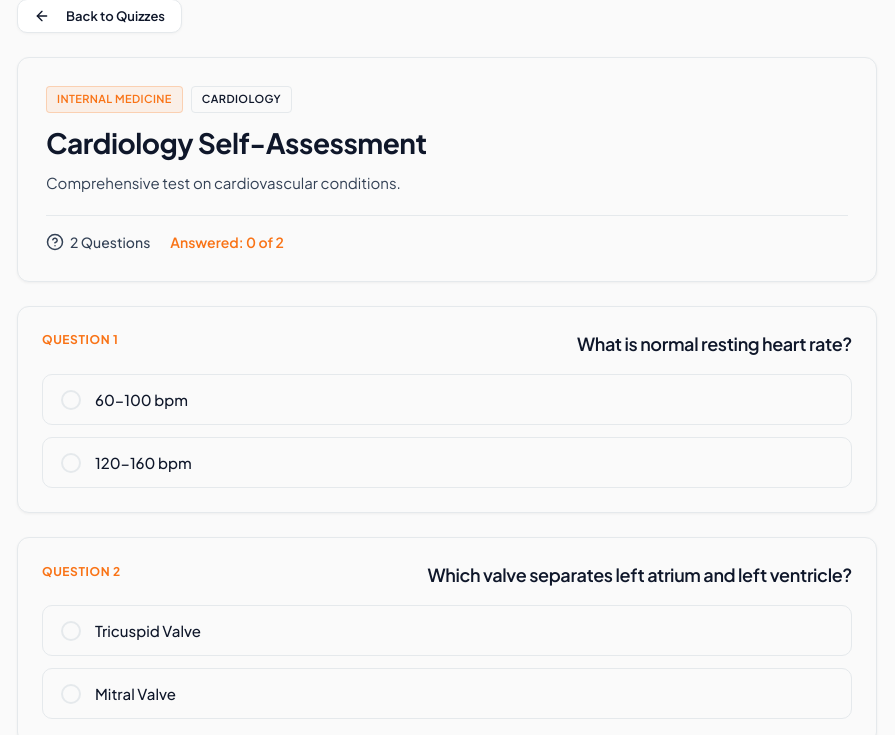
Test case: QuizDetail Component › highlights correct selected option in green and wrong selected option in red after submission
expect the heading "Cardiology Self-Assessment" is shown: met, box [46,124,426,160]
Click the radio button with aria-label "Option 1: 60-100 bpm". click: (142, 400)
box: [42,374,852,425]
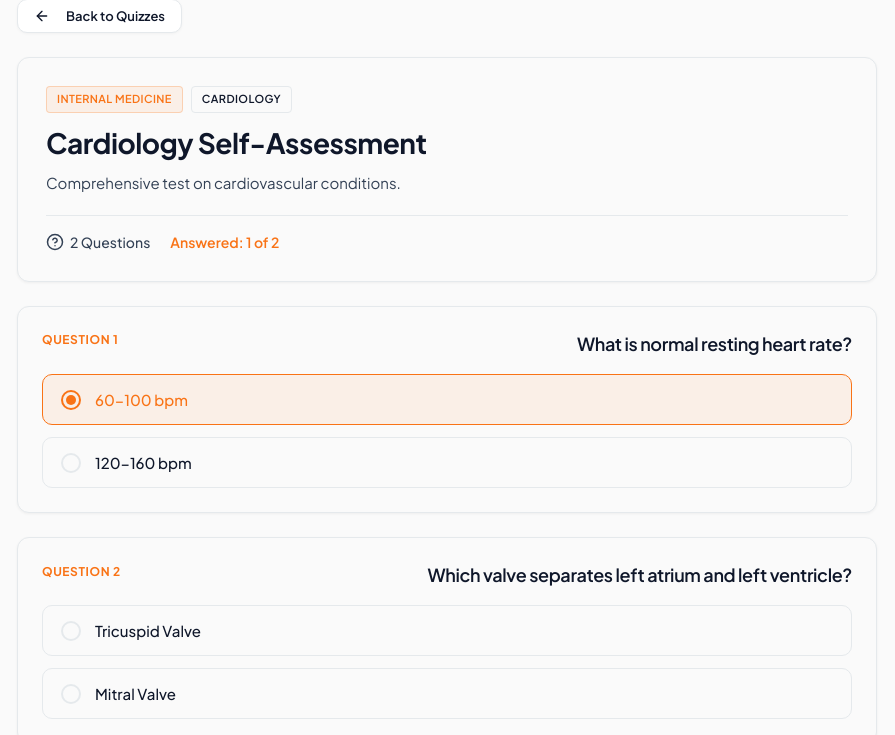
Click the radio button with aria-label "Option 1: Tricuspid Valve". click: (148, 631)
box: [42,605,852,656]
(page scrolled)
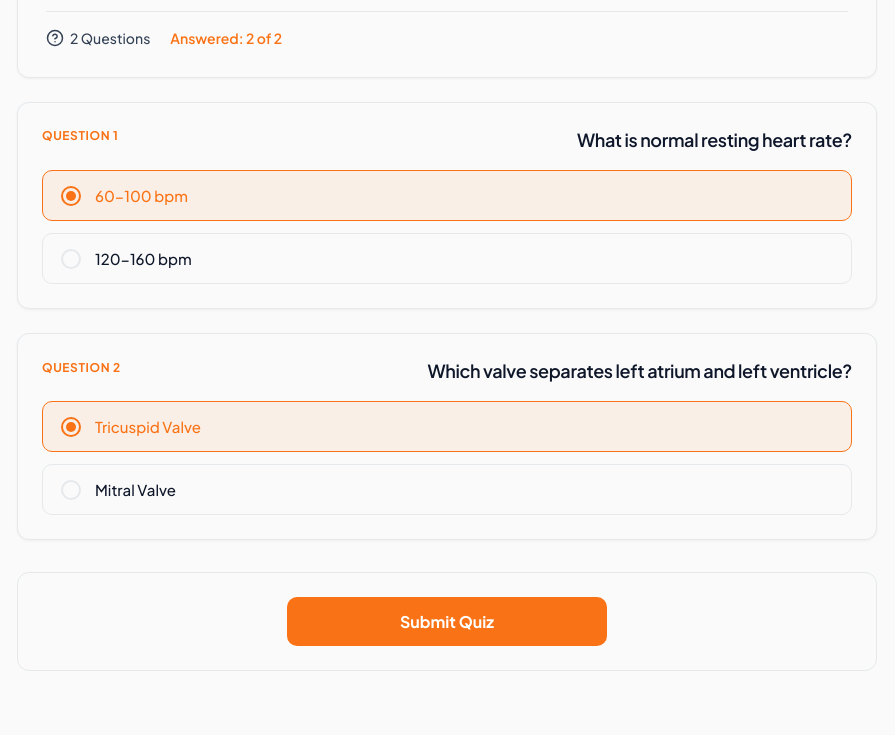
Click the button with test id "submit-quiz-btn". click: (447, 622)
box: [287,597,607,646]
(page scrolled)
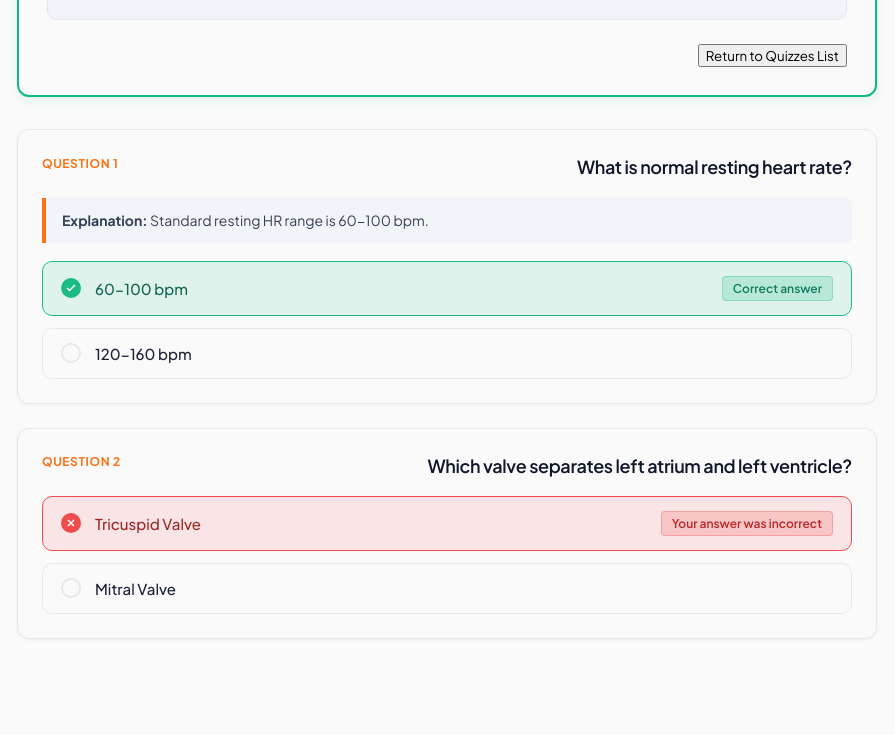
expect the text "Correct answer" is shown: met, box [722,276,833,301]
expect the text "Your answer was incorrect" is shown: met, box [661,511,833,536]
